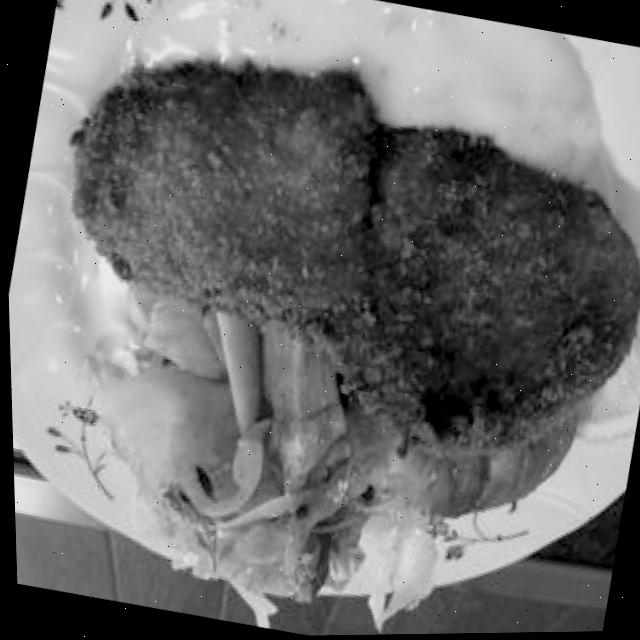炸货点心: (29, 74, 640, 459)
熟制海鲜: (29, 74, 640, 459)
